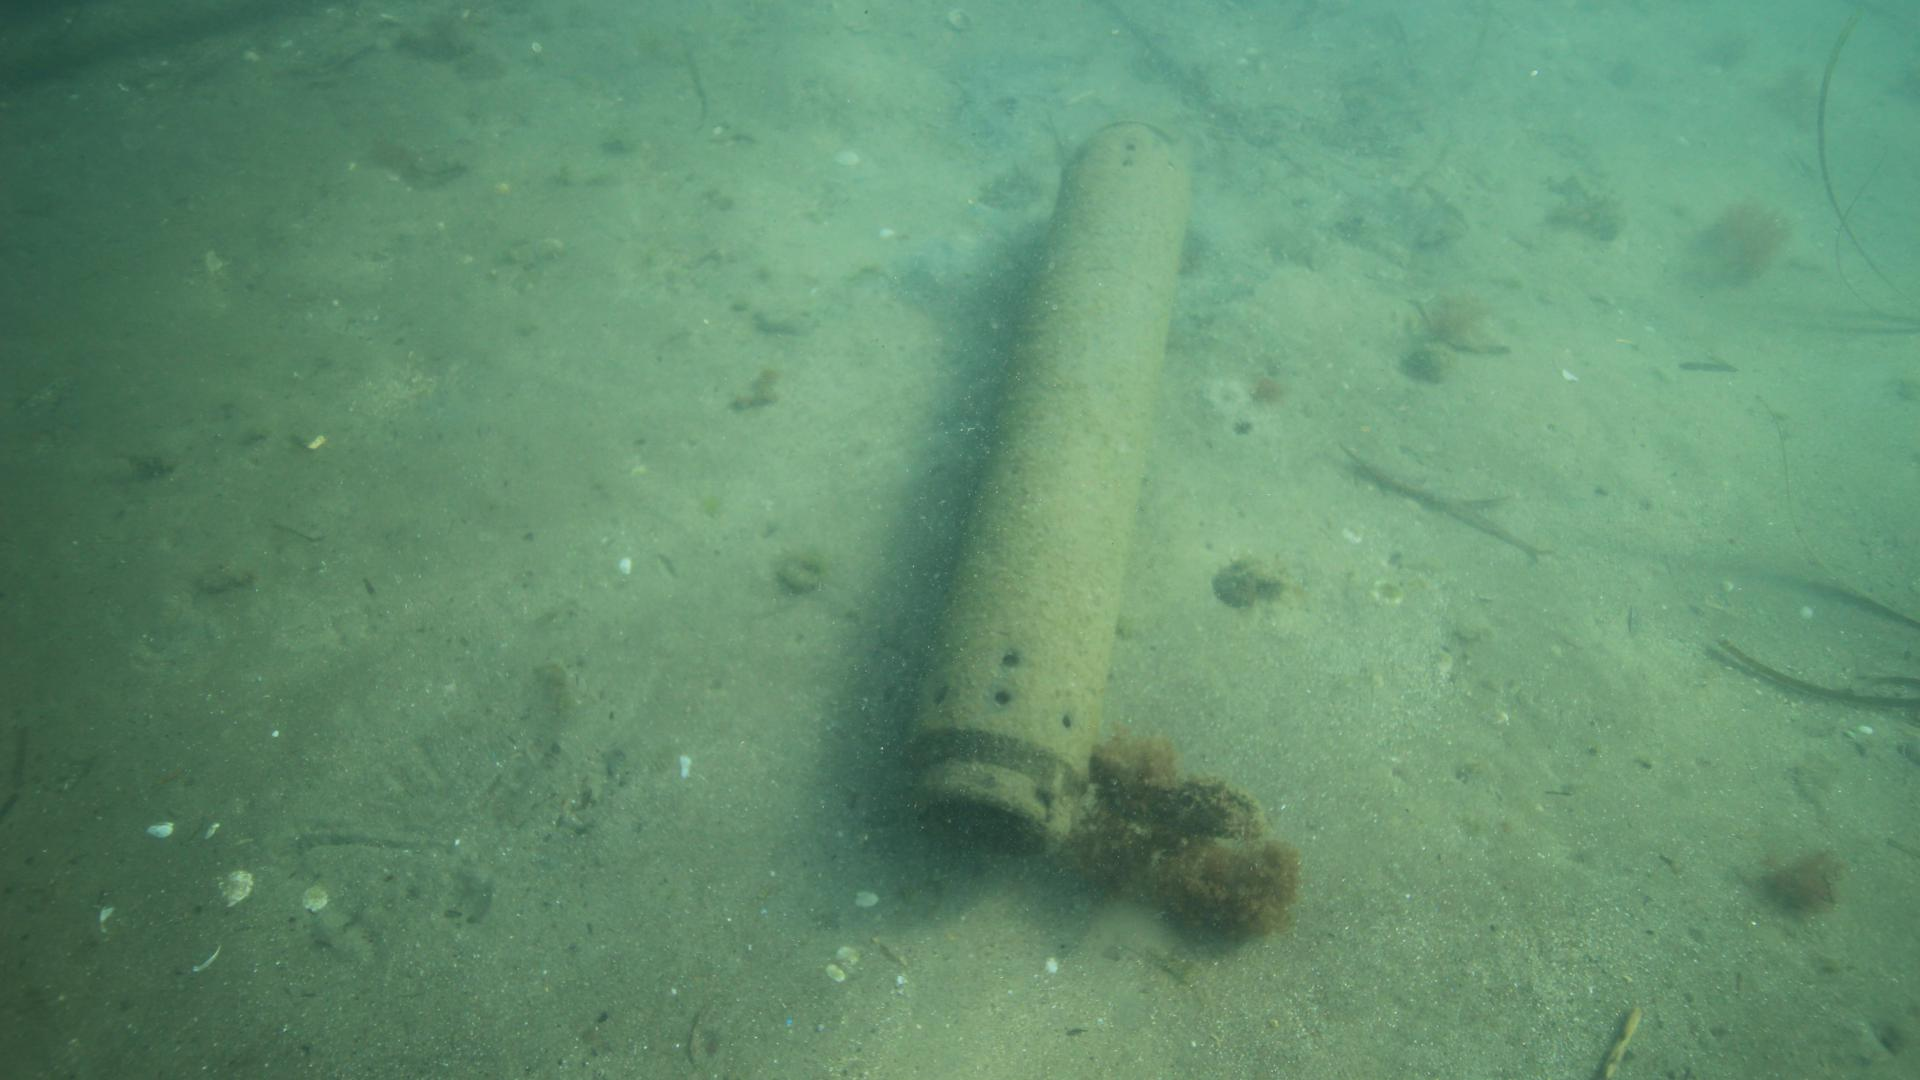eel fish trap: (897, 117, 1193, 860)
